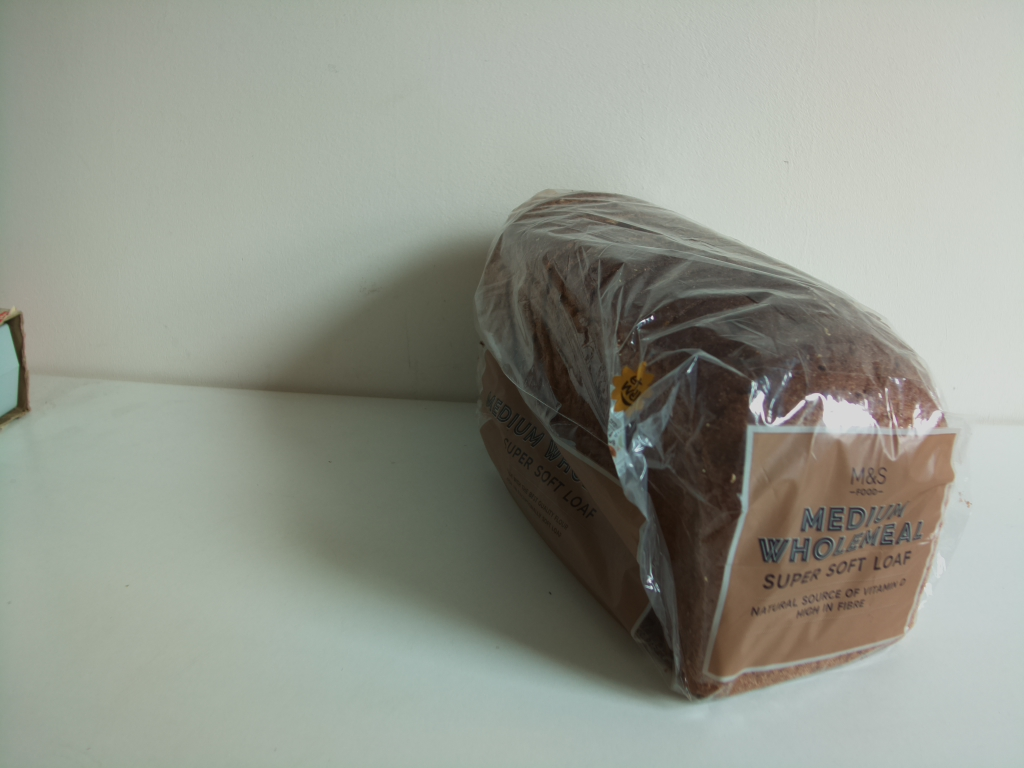bread: (473, 184, 966, 705)
